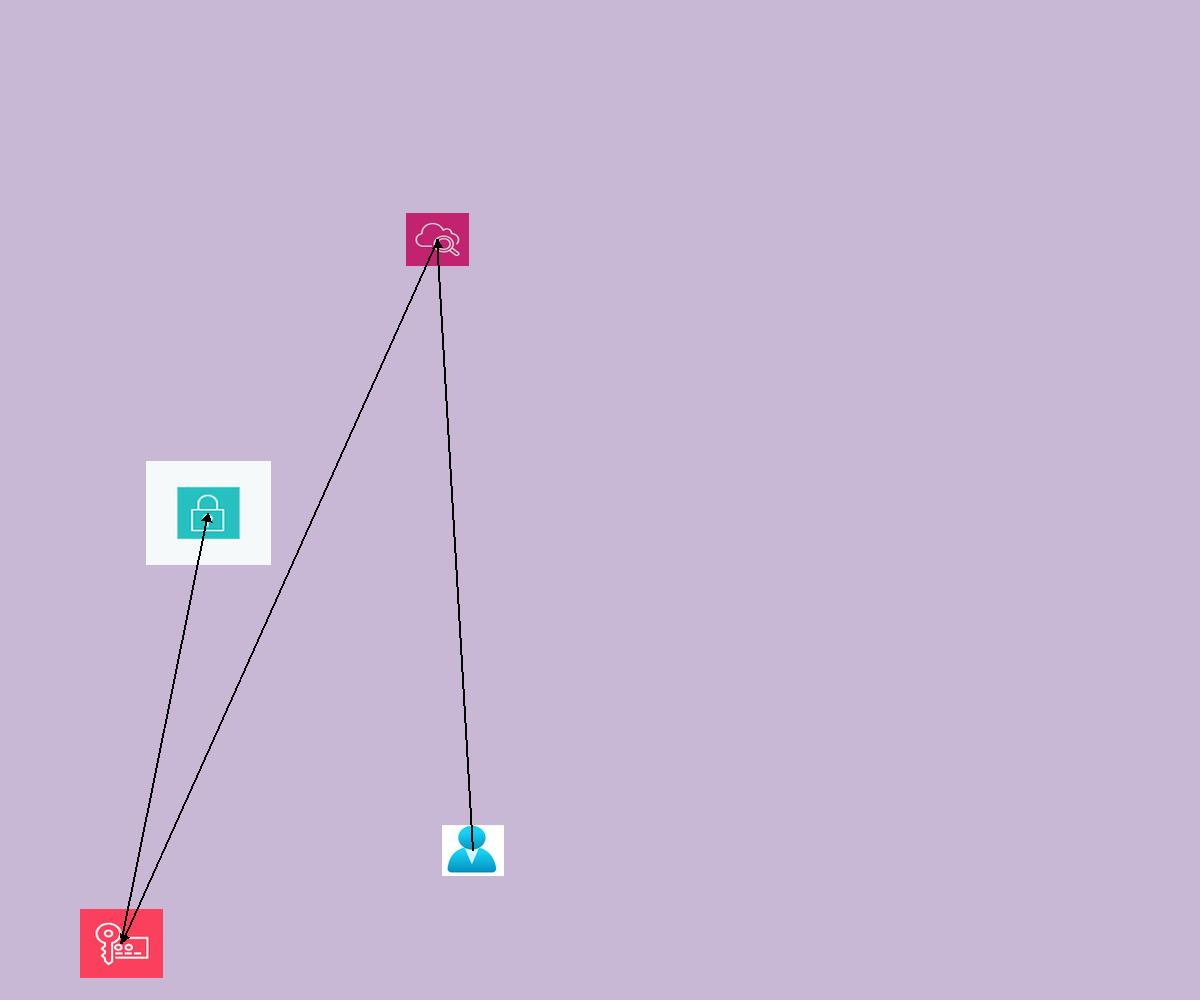AWS-CloudWatch: (406, 213, 469, 266)
AWS-Key-Management-Service: (80, 909, 163, 978)
AWS-Private-subnet: (146, 461, 271, 565)
Azure_users: (442, 825, 504, 876)
